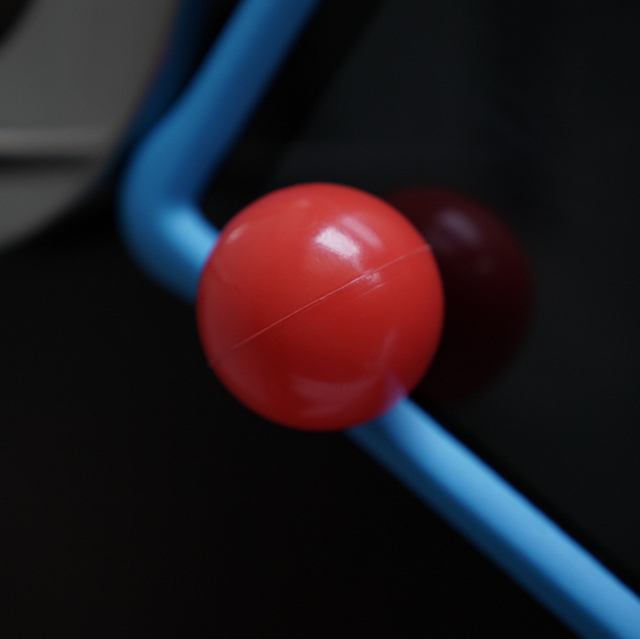Ball: (197, 183, 442, 428)
